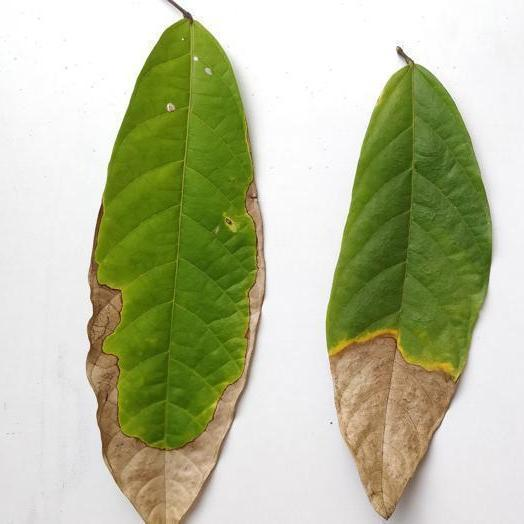Potassium: (87, 0, 264, 523), (326, 48, 491, 518)
